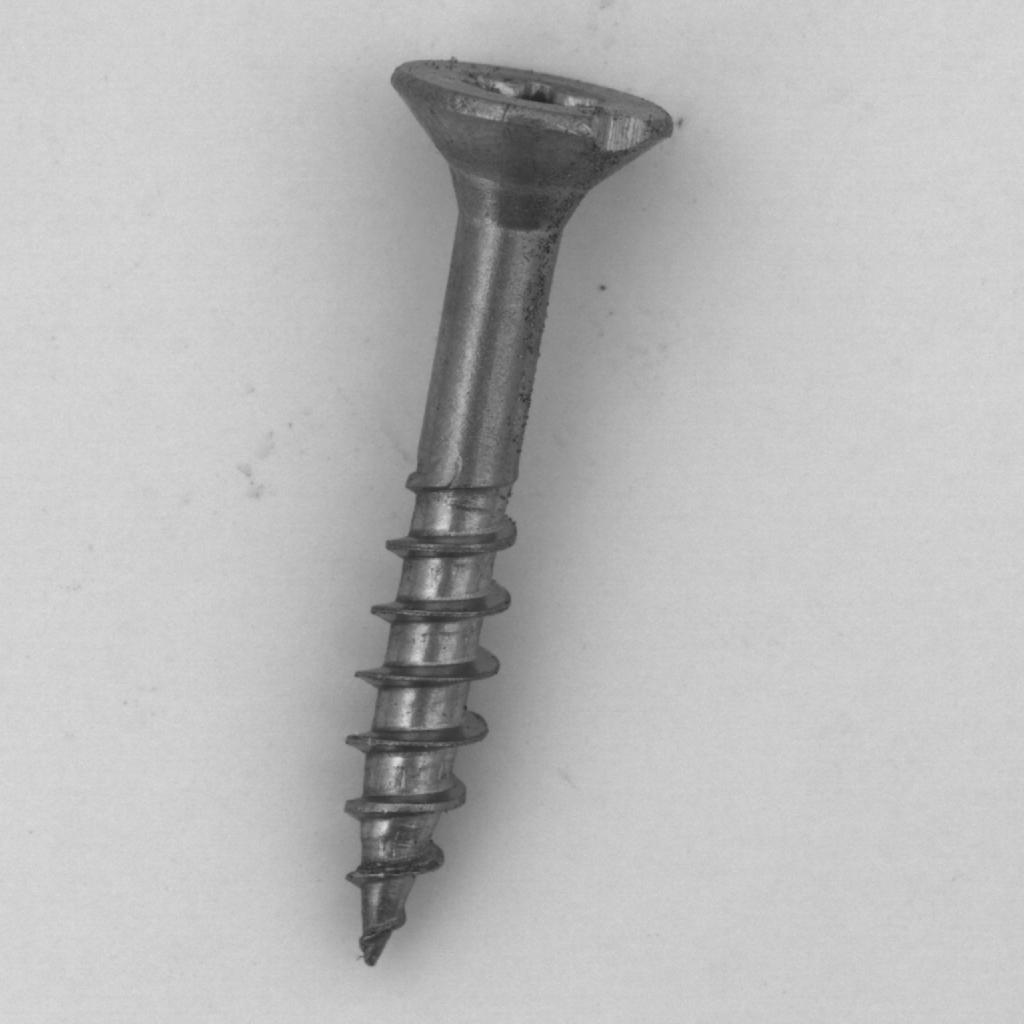scratch_head: (279, 30, 715, 973)
